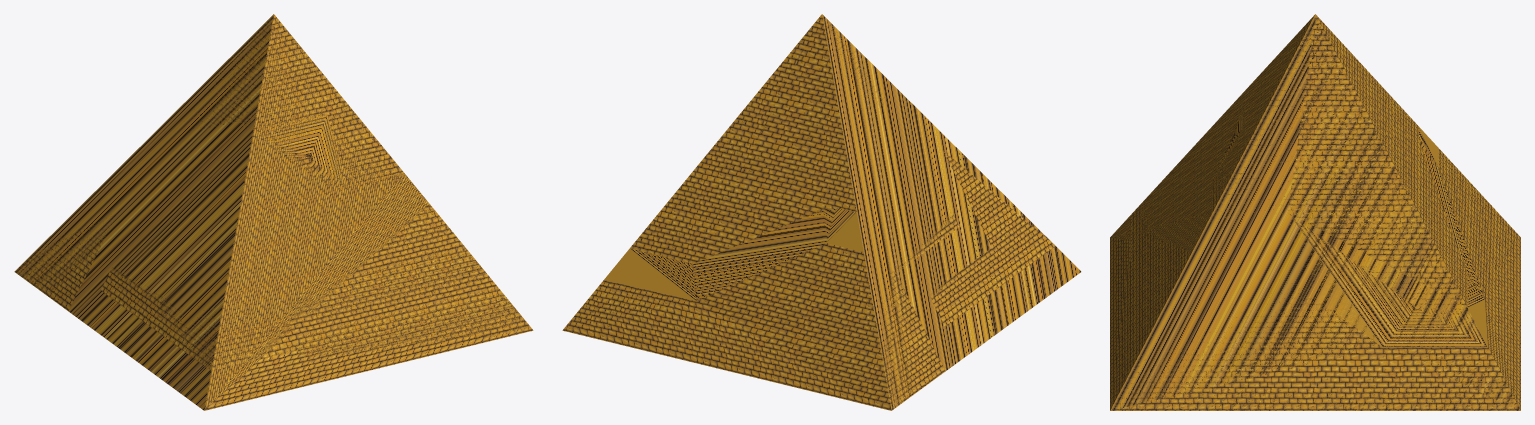
File: Piramide_final.fbx
The picture shows the model from 3 angles, left to right: view 1: azimuth 30°, elevation 25°; view 2: azimuth 150°, elevation 25°; view 3: azimuth 270°, elevation 25°; orthographic projection. The views are drawn at different scales.
Visible parts, largest first — view 1: Cube.004; view 2: Cube.004; view 3: Cube.004.
Part boxes in pixels (<box>): Cube.004: <box>14,14,533,410</box>; Cube.004: <box>562,14,1081,410</box>; Cube.004: <box>1110,14,1520,410</box>.
Size of the model in its own units: 240 by 200 by 240.
